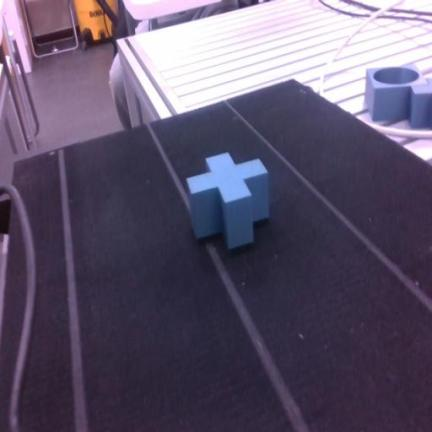cross: (187, 153, 269, 248)
